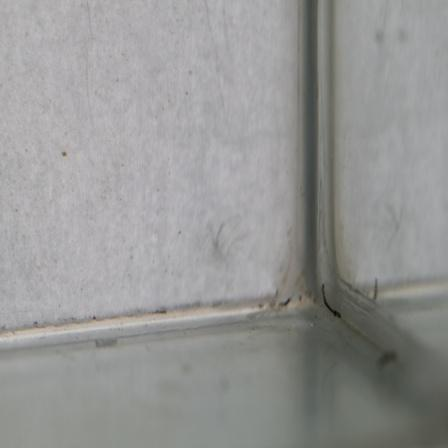Jentik-Nyamuk: (318, 280, 344, 322)
